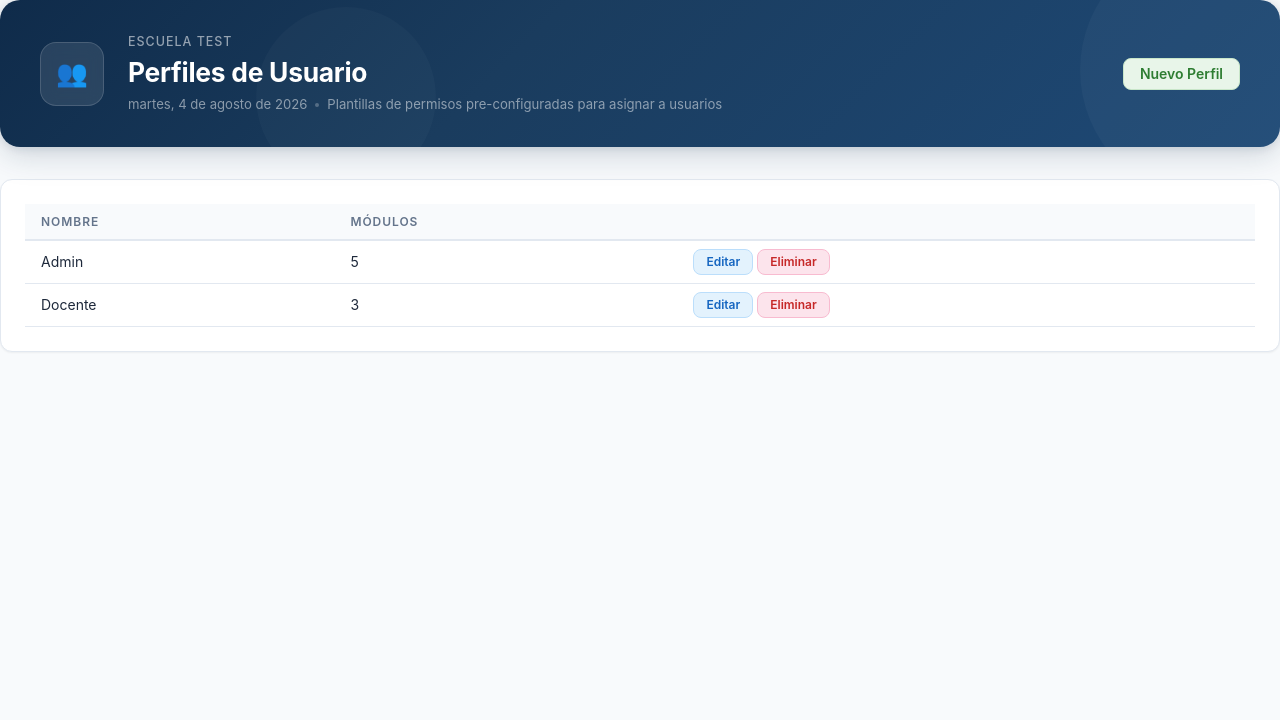
Scenario: ProfilesPage component › toggles form visibility when clicking "Nuevo Perfil"
Click the button "Nuevo Perfil".
click(1181, 74)  # box x1=1123 y1=58 x2=1240 y2=90
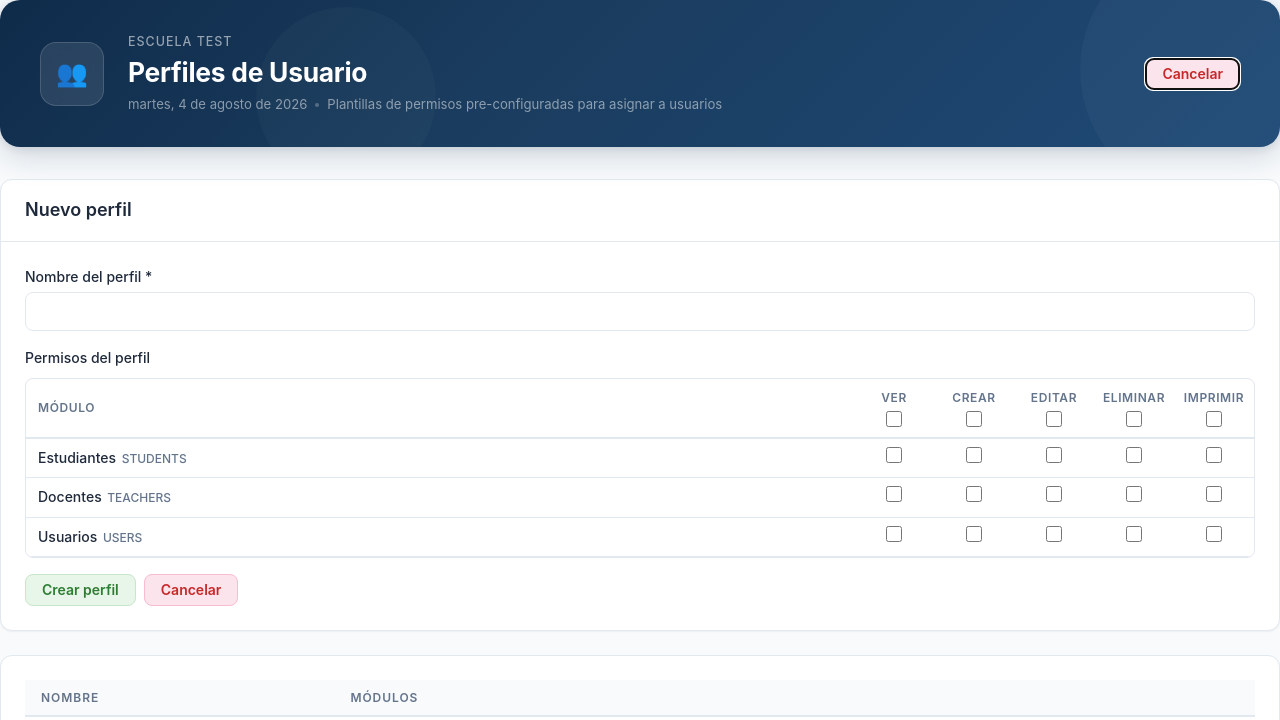
Expected: the button "Cancelar" in the row of "Perfiles de Usuario" is shown, x1=1145 y1=58 x2=1240 y2=90
